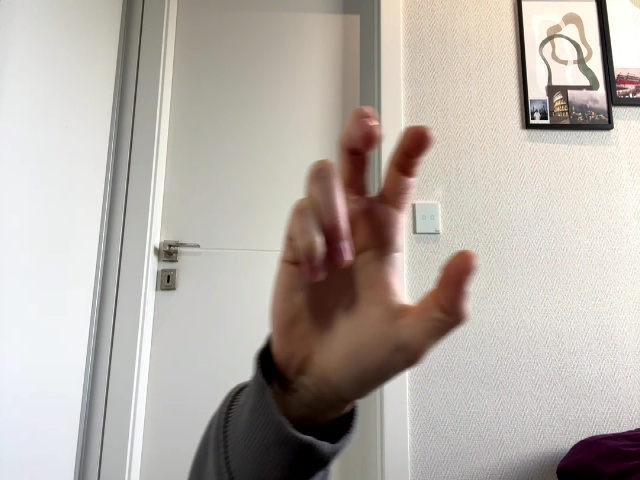CH: (272, 107, 477, 403)
